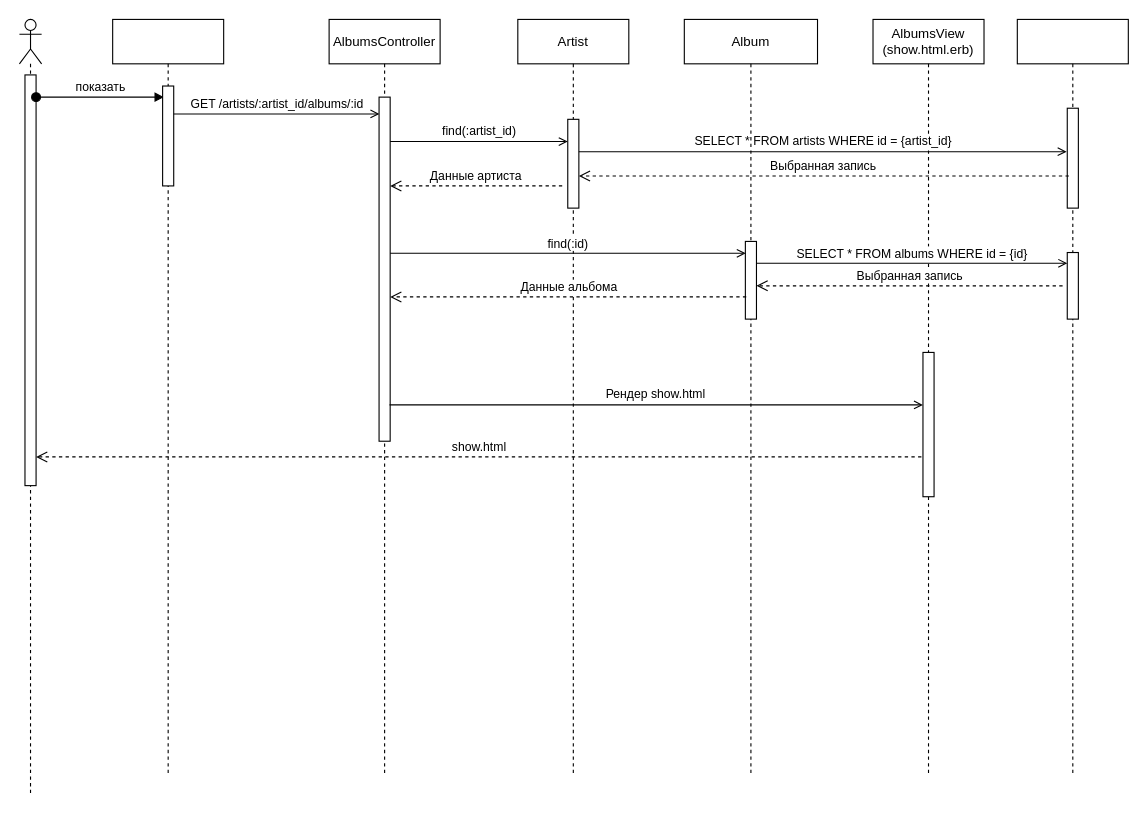
The diagram is 1148 pixels wide and 816 high, and some of its shapes have lost their labels. Each missing label, with the box of its shape:
AlbumsView (index.html.erb): (112, 18, 224, 774)
Database: (1016, 18, 1128, 774)
